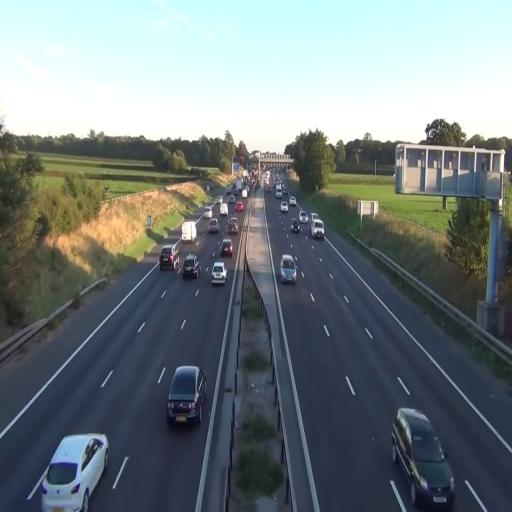vehicle: (391, 406, 456, 510), (39, 432, 110, 510), (166, 364, 206, 426), (280, 252, 297, 283), (160, 244, 176, 272), (211, 260, 227, 286), (182, 254, 199, 278), (311, 218, 325, 239), (220, 238, 233, 256), (299, 210, 311, 226), (280, 199, 290, 212)
